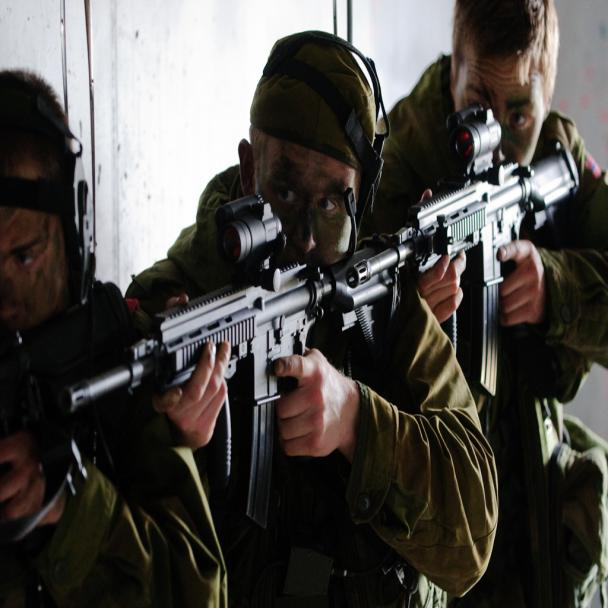Gun: (48, 192, 393, 421), (367, 128, 604, 332)
Hand: (264, 337, 370, 483), (171, 328, 244, 493), (493, 230, 548, 361)
